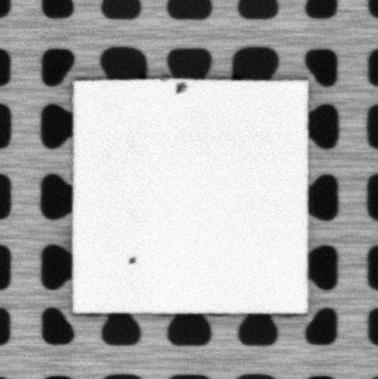DIE_INK: (175, 81, 186, 94), (126, 254, 139, 265)
